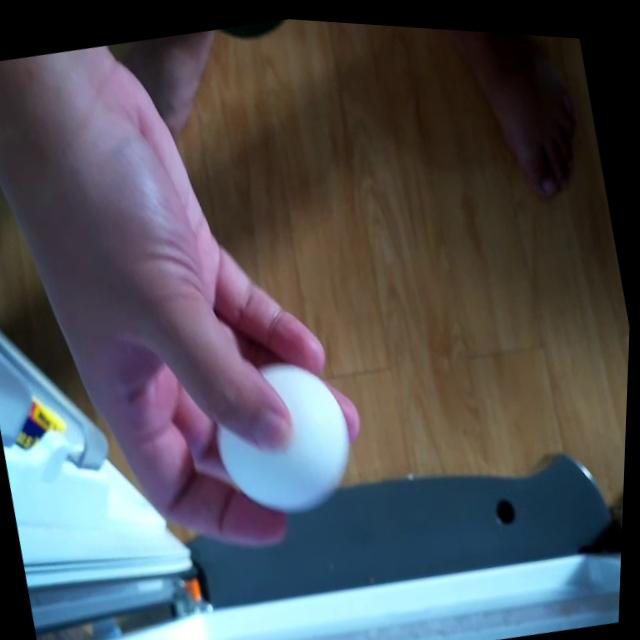egg: (197, 341, 372, 529)
